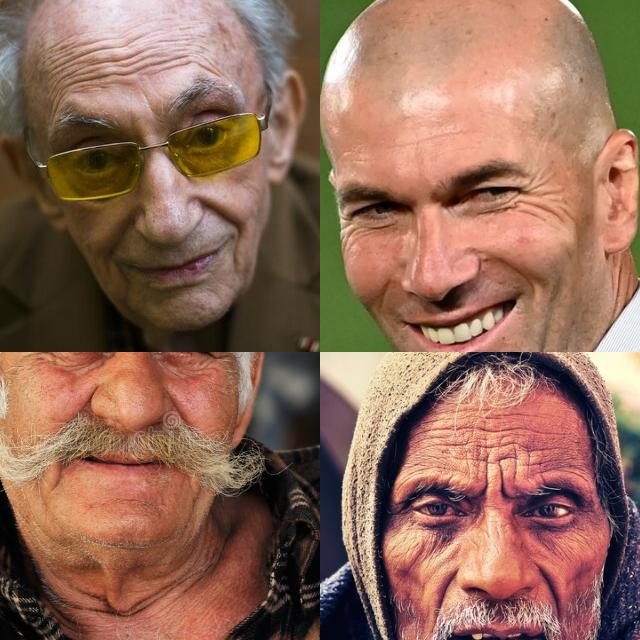chin: (200, 280, 224, 302)
crows_feet: (522, 177, 562, 217), (339, 214, 359, 246), (210, 352, 232, 378), (14, 352, 46, 367)
forehead: (44, 39, 100, 89), (156, 37, 220, 77), (387, 131, 468, 155), (109, 40, 151, 86), (461, 418, 493, 450), (535, 446, 565, 478), (501, 422, 527, 456), (424, 414, 451, 446), (536, 422, 562, 441)
frown_line: (480, 468, 510, 498), (138, 90, 160, 124)
gummy_smile: (477, 247, 537, 280), (200, 197, 258, 225), (158, 384, 192, 428), (68, 376, 96, 424), (538, 570, 564, 610), (430, 573, 456, 611), (106, 219, 130, 253), (374, 272, 392, 312)
masseter: (537, 296, 557, 352)
sad_smile: (178, 476, 202, 526), (110, 262, 134, 304), (49, 455, 67, 495), (224, 239, 243, 271)
